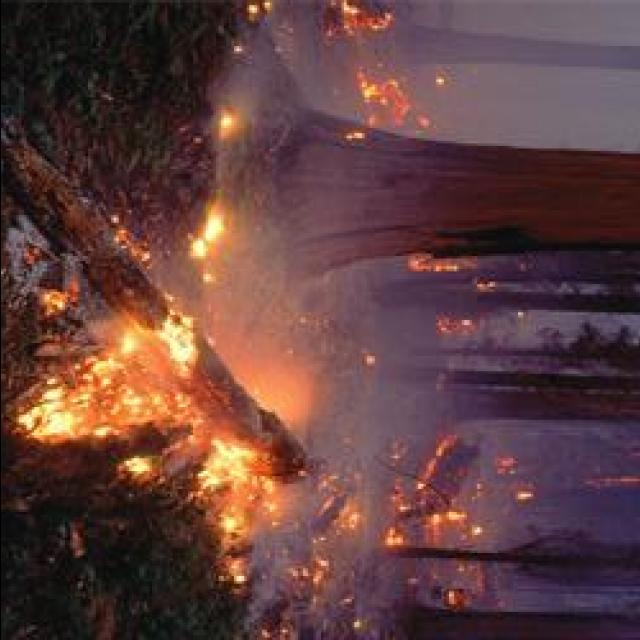fire: (22, 374, 184, 450), (201, 437, 261, 543), (190, 212, 232, 278)
smoke: (247, 198, 410, 326), (230, 319, 330, 427), (216, 40, 272, 134)
